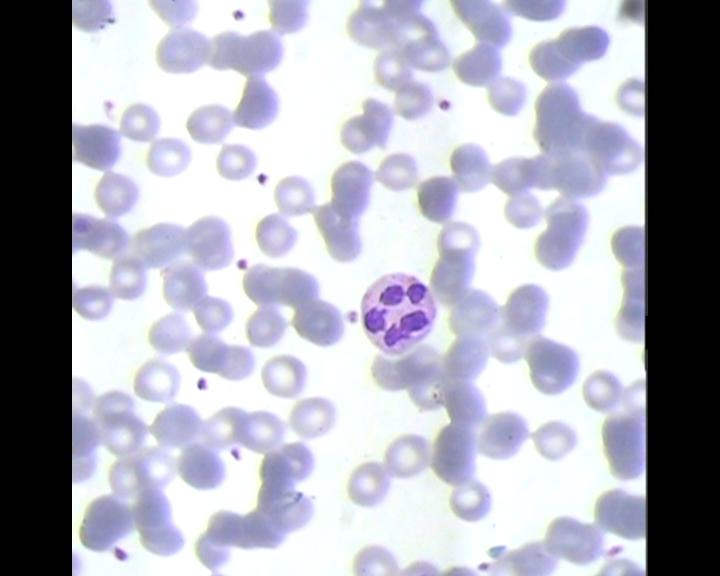neut: (353, 269, 436, 355)
